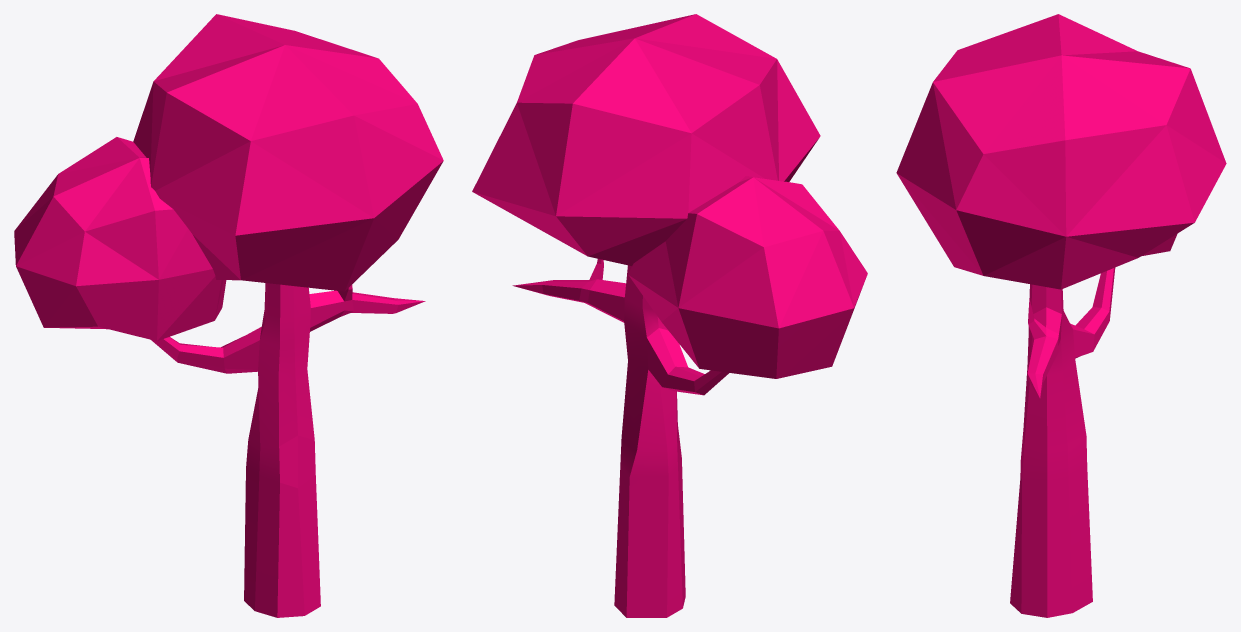
File: SM_SS_Oak_1.fbx
3 views of the same model, side by side, from view 1: azimuth 30°, elevation 25°; view 2: azimuth 150°, elevation 25°; view 3: azimuth 270°, elevation 25° (orthographic). The views are drawn at different scales.
Parts seen in each view (by area): view 1: SM_SS_Oak_1; view 2: SM_SS_Oak_1; view 3: SM_SS_Oak_1.
Part boxes in pixels (x1,y1,x2,y2): SM_SS_Oak_1: (14, 14, 443, 617); SM_SS_Oak_1: (472, 14, 867, 617); SM_SS_Oak_1: (896, 14, 1226, 617).
Bounding box in the file's own units: 106 × 81.43 × 150.
